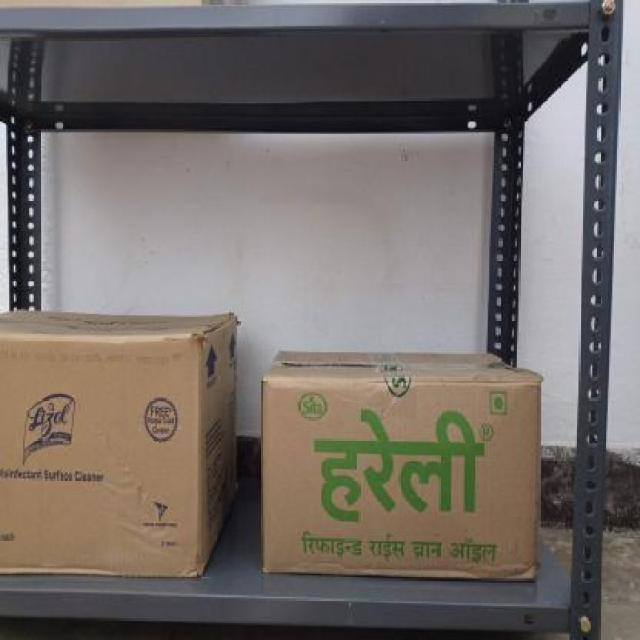box: (260, 378, 548, 574), (0, 330, 202, 576)
